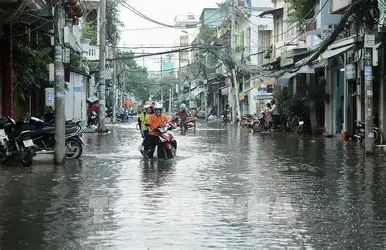ROAD_FLOODING: (0, 115, 386, 250)
